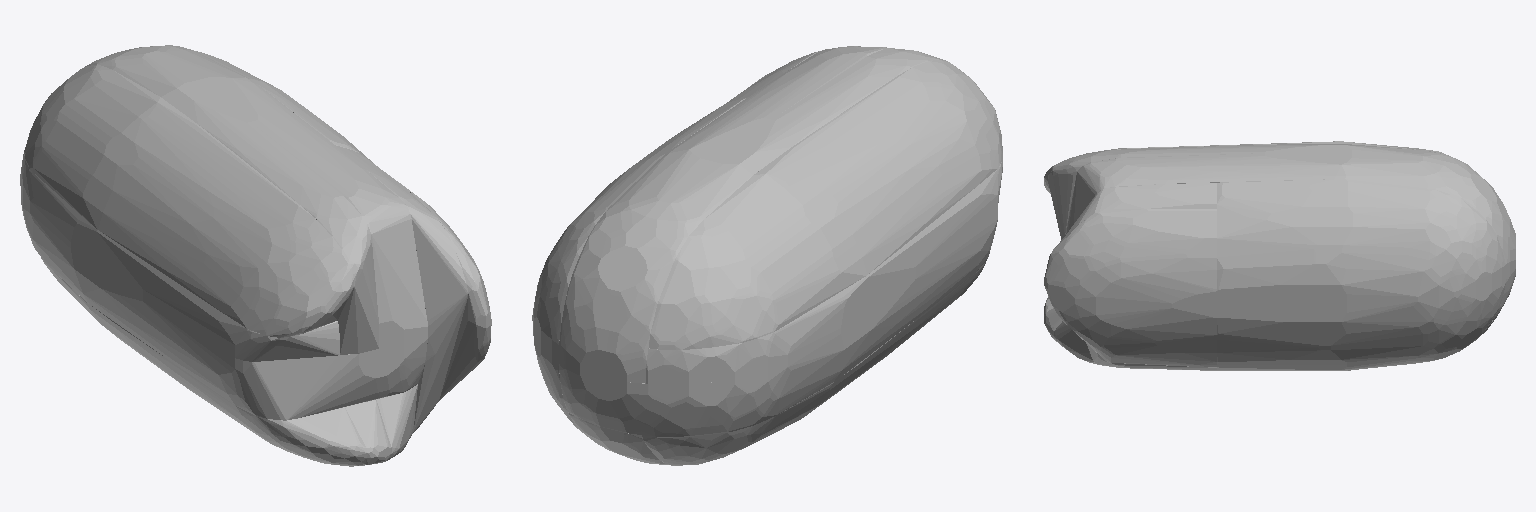
robot.urdf — root:
<robot name="root">
  <link name="link_coacd_convex_piece_0">
    <inertial>
      <origin xyz="0 0 0" rpy="0 0 0"/>
      <inertia ixx="2.34E-02" ixy="-8.51E-03" ixz="-1.49E-05" iyy="1.60E-02" iyz="-9.22E-05" izz="2.99E-02"/>
    </inertial>
    <visual>
      <origin xyz="0 0 0" rpy="0 0 0"/>
      <geometry>
        <mesh filename="coacd_convex_piece_0.obj" scale="1.0000E+00 1.0000E+00 1.0000E+00"/>
      </geometry>
      <material name="">
        <color rgba="7.50E-01 7.50E-01 7.50E-01 1"/>
      </material>
    </visual>
    <collision>
      <origin xyz="0 0 0" rpy="0 0 0"/>
      <geometry>
        <mesh filename="coacd_convex_piece_0.obj" scale="1.0000E+00 1.0000E+00 1.0000E+00"/>
      </geometry>
    </collision>
  </link>
  <link name="link_coacd_convex_piece_1">
    <inertial>
      <origin xyz="0 0 0" rpy="0 0 0"/>
      <inertia ixx="1.25E-02" ixy="6.77E-03" ixz="2.00E-05" iyy="5.28E-03" iyz="1.68E-05" izz="1.61E-02"/>
    </inertial>
    <visual>
      <origin xyz="0 0 0" rpy="0 0 0"/>
      <geometry>
        <mesh filename="coacd_convex_piece_1.obj" scale="1.0000E+00 1.0000E+00 1.0000E+00"/>
      </geometry>
      <material name="">
        <color rgba="7.50E-01 7.50E-01 7.50E-01 1"/>
      </material>
    </visual>
    <collision>
      <origin xyz="0 0 0" rpy="0 0 0"/>
      <geometry>
        <mesh filename="coacd_convex_piece_1.obj" scale="1.0000E+00 1.0000E+00 1.0000E+00"/>
      </geometry>
    </collision>
  </link>
  <joint name="link_coacd_convex_piece_1_joint" type="fixed">
    <origin xyz="0 0 0" rpy="0 0 0"/>
    <parent link="link_coacd_convex_piece_0"/>
    <child link="link_coacd_convex_piece_1"/>
  </joint>
  <link name="link_coacd_convex_piece_2">
    <inertial>
      <origin xyz="0 0 0" rpy="0 0 0"/>
      <inertia ixx="1.26E-02" ixy="4.37E-03" ixz="1.72E-05" iyy="3.52E-03" iyz="7.07E-07" izz="1.29E-02"/>
    </inertial>
    <visual>
      <origin xyz="0 0 0" rpy="0 0 0"/>
      <geometry>
        <mesh filename="coacd_convex_piece_2.obj" scale="1.0000E+00 1.0000E+00 1.0000E+00"/>
      </geometry>
      <material name="">
        <color rgba="7.50E-01 7.50E-01 7.50E-01 1"/>
      </material>
    </visual>
    <collision>
      <origin xyz="0 0 0" rpy="0 0 0"/>
      <geometry>
        <mesh filename="coacd_convex_piece_2.obj" scale="1.0000E+00 1.0000E+00 1.0000E+00"/>
      </geometry>
    </collision>
  </link>
  <joint name="link_coacd_convex_piece_2_joint" type="fixed">
    <origin xyz="0 0 0" rpy="0 0 0"/>
    <parent link="link_coacd_convex_piece_1"/>
    <child link="link_coacd_convex_piece_2"/>
  </joint>
  <link name="link_coacd_convex_piece_3">
    <inertial>
      <origin xyz="0 0 0" rpy="0 0 0"/>
      <inertia ixx="4.13E-02" ixy="-1.39E-04" ixz="-1.85E-03" iyy="9.22E-03" iyz="3.27E-04" izz="4.61E-02"/>
    </inertial>
    <visual>
      <origin xyz="0 0 0" rpy="0 0 0"/>
      <geometry>
        <mesh filename="coacd_convex_piece_3.obj" scale="1.0000E+00 1.0000E+00 1.0000E+00"/>
      </geometry>
      <material name="">
        <color rgba="7.50E-01 7.50E-01 7.50E-01 1"/>
      </material>
    </visual>
    <collision>
      <origin xyz="0 0 0" rpy="0 0 0"/>
      <geometry>
        <mesh filename="coacd_convex_piece_3.obj" scale="1.0000E+00 1.0000E+00 1.0000E+00"/>
      </geometry>
    </collision>
  </link>
  <joint name="link_coacd_convex_piece_3_joint" type="fixed">
    <origin xyz="0 0 0" rpy="0 0 0"/>
    <parent link="link_coacd_convex_piece_2"/>
    <child link="link_coacd_convex_piece_3"/>
  </joint>
  <link name="link_coacd_convex_piece_4">
    <inertial>
      <origin xyz="0 0 0" rpy="0 0 0"/>
      <inertia ixx="3.14E-02" ixy="-1.99E-04" ixz="-1.84E-03" iyy="7.35E-03" iyz="-1.50E-04" izz="2.62E-02"/>
    </inertial>
    <visual>
      <origin xyz="0 0 0" rpy="0 0 0"/>
      <geometry>
        <mesh filename="coacd_convex_piece_4.obj" scale="1.0000E+00 1.0000E+00 1.0000E+00"/>
      </geometry>
      <material name="">
        <color rgba="7.50E-01 7.50E-01 7.50E-01 1"/>
      </material>
    </visual>
    <collision>
      <origin xyz="0 0 0" rpy="0 0 0"/>
      <geometry>
        <mesh filename="coacd_convex_piece_4.obj" scale="1.0000E+00 1.0000E+00 1.0000E+00"/>
      </geometry>
    </collision>
  </link>
  <joint name="link_coacd_convex_piece_4_joint" type="fixed">
    <origin xyz="0 0 0" rpy="0 0 0"/>
    <parent link="link_coacd_convex_piece_3"/>
    <child link="link_coacd_convex_piece_4"/>
  </joint>
  <link name="link_coacd_convex_piece_5">
    <inertial>
      <origin xyz="0 0 0" rpy="0 0 0"/>
      <inertia ixx="2.37E-02" ixy="-5.47E-05" ixz="1.15E-03" iyy="5.06E-03" iyz="3.72E-04" izz="1.97E-02"/>
    </inertial>
    <visual>
      <origin xyz="0 0 0" rpy="0 0 0"/>
      <geometry>
        <mesh filename="coacd_convex_piece_5.obj" scale="1.0000E+00 1.0000E+00 1.0000E+00"/>
      </geometry>
      <material name="">
        <color rgba="7.50E-01 7.50E-01 7.50E-01 1"/>
      </material>
    </visual>
    <collision>
      <origin xyz="0 0 0" rpy="0 0 0"/>
      <geometry>
        <mesh filename="coacd_convex_piece_5.obj" scale="1.0000E+00 1.0000E+00 1.0000E+00"/>
      </geometry>
    </collision>
  </link>
  <joint name="link_coacd_convex_piece_5_joint" type="fixed">
    <origin xyz="0 0 0" rpy="0 0 0"/>
    <parent link="link_coacd_convex_piece_4"/>
    <child link="link_coacd_convex_piece_5"/>
  </joint>
  <link name="link_coacd_convex_piece_6">
    <inertial>
      <origin xyz="0 0 0" rpy="0 0 0"/>
      <inertia ixx="2.21E-02" ixy="-9.12E-04" ixz="4.44E-03" iyy="1.02E-02" iyz="8.63E-04" izz="2.29E-02"/>
    </inertial>
    <visual>
      <origin xyz="0 0 0" rpy="0 0 0"/>
      <geometry>
        <mesh filename="coacd_convex_piece_6.obj" scale="1.0000E+00 1.0000E+00 1.0000E+00"/>
      </geometry>
      <material name="">
        <color rgba="7.50E-01 7.50E-01 7.50E-01 1"/>
      </material>
    </visual>
    <collision>
      <origin xyz="0 0 0" rpy="0 0 0"/>
      <geometry>
        <mesh filename="coacd_convex_piece_6.obj" scale="1.0000E+00 1.0000E+00 1.0000E+00"/>
      </geometry>
    </collision>
  </link>
  <joint name="link_coacd_convex_piece_6_joint" type="fixed">
    <origin xyz="0 0 0" rpy="0 0 0"/>
    <parent link="link_coacd_convex_piece_5"/>
    <child link="link_coacd_convex_piece_6"/>
  </joint>
  <link name="link_coacd_convex_piece_7">
    <inertial>
      <origin xyz="0 0 0" rpy="0 0 0"/>
      <inertia ixx="9.95E-03" ixy="-1.09E-04" ixz="6.52E-04" iyy="4.03E-03" iyz="1.16E-05" izz="1.36E-02"/>
    </inertial>
    <visual>
      <origin xyz="0 0 0" rpy="0 0 0"/>
      <geometry>
        <mesh filename="coacd_convex_piece_7.obj" scale="1.0000E+00 1.0000E+00 1.0000E+00"/>
      </geometry>
      <material name="">
        <color rgba="7.50E-01 7.50E-01 7.50E-01 1"/>
      </material>
    </visual>
    <collision>
      <origin xyz="0 0 0" rpy="0 0 0"/>
      <geometry>
        <mesh filename="coacd_convex_piece_7.obj" scale="1.0000E+00 1.0000E+00 1.0000E+00"/>
      </geometry>
    </collision>
  </link>
  <joint name="link_coacd_convex_piece_7_joint" type="fixed">
    <origin xyz="0 0 0" rpy="0 0 0"/>
    <parent link="link_coacd_convex_piece_6"/>
    <child link="link_coacd_convex_piece_7"/>
  </joint>
  <link name="link_coacd_convex_piece_8">
    <inertial>
      <origin xyz="0 0 0" rpy="0 0 0"/>
      <inertia ixx="1.78E-02" ixy="-8.40E-04" ixz="-3.61E-03" iyy="8.35E-03" iyz="-1.24E-03" izz="1.55E-02"/>
    </inertial>
    <visual>
      <origin xyz="0 0 0" rpy="0 0 0"/>
      <geometry>
        <mesh filename="coacd_convex_piece_8.obj" scale="1.0000E+00 1.0000E+00 1.0000E+00"/>
      </geometry>
      <material name="">
        <color rgba="7.50E-01 7.50E-01 7.50E-01 1"/>
      </material>
    </visual>
    <collision>
      <origin xyz="0 0 0" rpy="0 0 0"/>
      <geometry>
        <mesh filename="coacd_convex_piece_8.obj" scale="1.0000E+00 1.0000E+00 1.0000E+00"/>
      </geometry>
    </collision>
  </link>
  <joint name="link_coacd_convex_piece_8_joint" type="fixed">
    <origin xyz="0 0 0" rpy="0 0 0"/>
    <parent link="link_coacd_convex_piece_7"/>
    <child link="link_coacd_convex_piece_8"/>
  </joint>
  <link name="link_coacd_convex_piece_9">
    <inertial>
      <origin xyz="0 0 0" rpy="0 0 0"/>
      <inertia ixx="1.61E-02" ixy="1.30E-04" ixz="1.48E-03" iyy="5.89E-03" iyz="-6.74E-04" izz="1.13E-02"/>
    </inertial>
    <visual>
      <origin xyz="0 0 0" rpy="0 0 0"/>
      <geometry>
        <mesh filename="coacd_convex_piece_9.obj" scale="1.0000E+00 1.0000E+00 1.0000E+00"/>
      </geometry>
      <material name="">
        <color rgba="7.50E-01 7.50E-01 7.50E-01 1"/>
      </material>
    </visual>
    <collision>
      <origin xyz="0 0 0" rpy="0 0 0"/>
      <geometry>
        <mesh filename="coacd_convex_piece_9.obj" scale="1.0000E+00 1.0000E+00 1.0000E+00"/>
      </geometry>
    </collision>
  </link>
  <joint name="link_coacd_convex_piece_9_joint" type="fixed">
    <origin xyz="0 0 0" rpy="0 0 0"/>
    <parent link="link_coacd_convex_piece_8"/>
    <child link="link_coacd_convex_piece_9"/>
  </joint>
  <link name="link_coacd_convex_piece_10">
    <inertial>
      <origin xyz="0 0 0" rpy="0 0 0"/>
      <inertia ixx="1.16E-02" ixy="-7.91E-05" ixz="-4.68E-04" iyy="3.78E-03" iyz="-6.71E-04" izz="8.03E-03"/>
    </inertial>
    <visual>
      <origin xyz="0 0 0" rpy="0 0 0"/>
      <geometry>
        <mesh filename="coacd_convex_piece_10.obj" scale="1.0000E+00 1.0000E+00 1.0000E+00"/>
      </geometry>
      <material name="">
        <color rgba="7.50E-01 7.50E-01 7.50E-01 1"/>
      </material>
    </visual>
    <collision>
      <origin xyz="0 0 0" rpy="0 0 0"/>
      <geometry>
        <mesh filename="coacd_convex_piece_10.obj" scale="1.0000E+00 1.0000E+00 1.0000E+00"/>
      </geometry>
    </collision>
  </link>
  <joint name="link_coacd_convex_piece_10_joint" type="fixed">
    <origin xyz="0 0 0" rpy="0 0 0"/>
    <parent link="link_coacd_convex_piece_9"/>
    <child link="link_coacd_convex_piece_10"/>
  </joint>
</robot>

--- Facts derived from the render (not from the file) ---
Views: 3 orthographic renders of the robot side by side, from view 1: azimuth 30°, elevation 25°; view 2: azimuth 150°, elevation 25°; view 3: azimuth 270°, elevation 25°.
Robot: root — 11 links, 10 joints (10 fixed); root link link_coacd_convex_piece_0; default pose: every joint at zero.
Visible links, largest first — view 1: link_coacd_convex_piece_6, link_coacd_convex_piece_3, link_coacd_convex_piece_4, link_coacd_convex_piece_5, link_coacd_convex_piece_7, link_coacd_convex_piece_2, link_coacd_convex_piece_8, link_coacd_convex_piece_1, link_coacd_convex_piece_9, link_coacd_convex_piece_10, link_coacd_convex_piece_0; view 2: link_coacd_convex_piece_6, link_coacd_convex_piece_3, link_coacd_convex_piece_4, link_coacd_convex_piece_5, link_coacd_convex_piece_7, link_coacd_convex_piece_0, link_coacd_convex_piece_8, link_coacd_convex_piece_10, link_coacd_convex_piece_9, link_coacd_convex_piece_2; view 3: link_coacd_convex_piece_0, link_coacd_convex_piece_1, link_coacd_convex_piece_4, link_coacd_convex_piece_5, link_coacd_convex_piece_2, link_coacd_convex_piece_9, link_coacd_convex_piece_6.
Boxes of the visible links, x1,y1,x2,y2 form: link_coacd_convex_piece_6: (24,64,353,337); link_coacd_convex_piece_3: (20,181,427,420); link_coacd_convex_piece_4: (121,45,427,348); link_coacd_convex_piece_5: (85,49,378,354); link_coacd_convex_piece_7: (20,150,339,361); link_coacd_convex_piece_2: (337,146,468,432); link_coacd_convex_piece_8: (41,258,367,466); link_coacd_convex_piece_1: (385,172,491,401); link_coacd_convex_piece_9: (376,384,417,459); link_coacd_convex_piece_10: (345,400,391,465); link_coacd_convex_piece_0: (193,50,372,162); link_coacd_convex_piece_6: (649,60,1002,349); link_coacd_convex_piece_3: (559,209,997,436); link_coacd_convex_piece_4: (559,46,886,376); link_coacd_convex_piece_5: (606,48,945,383); link_coacd_convex_piece_7: (646,160,1002,384); link_coacd_convex_piece_0: (532,97,747,428); link_coacd_convex_piece_8: (642,262,985,465); link_coacd_convex_piece_10: (609,429,673,465); link_coacd_convex_piece_9: (569,413,633,459); link_coacd_convex_piece_2: (726,51,819,103); link_coacd_convex_piece_0: (1217,179,1505,370); link_coacd_convex_piece_1: (1044,209,1216,367); link_coacd_convex_piece_4: (1065,153,1515,274); link_coacd_convex_piece_5: (1048,144,1515,239); link_coacd_convex_piece_2: (1065,183,1216,370); link_coacd_convex_piece_9: (1054,312,1499,370); link_coacd_convex_piece_6: (1044,141,1468,193).
Size in the robot's own frame: 0.8858 by 1.85 by 0.8858 metres.
Meshes: 11 distinct files referenced, 11 mesh visuals loaded (11 OBJ).
